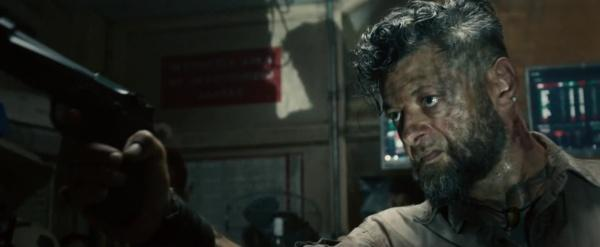Gun: (0, 16, 153, 150)
